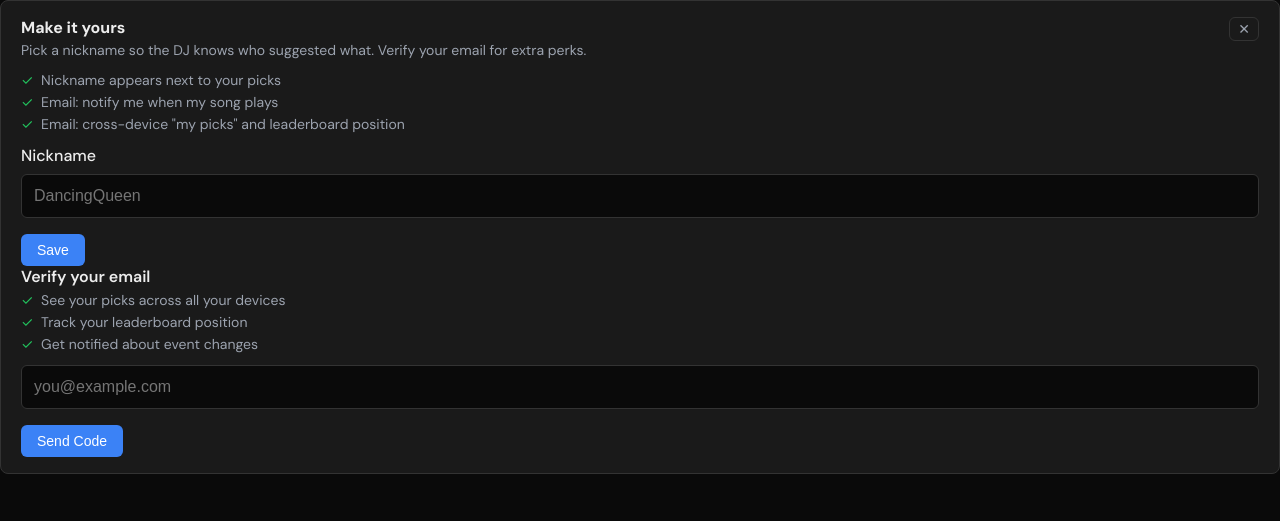
Test case: FeatureOptInPanel › requires at least a nickname to save
The width and height of the screenshot is (1280, 521).
Step 1. Click the button "Save" → x=53, y=250, box x1=21 y1=234 x2=85 y2=266
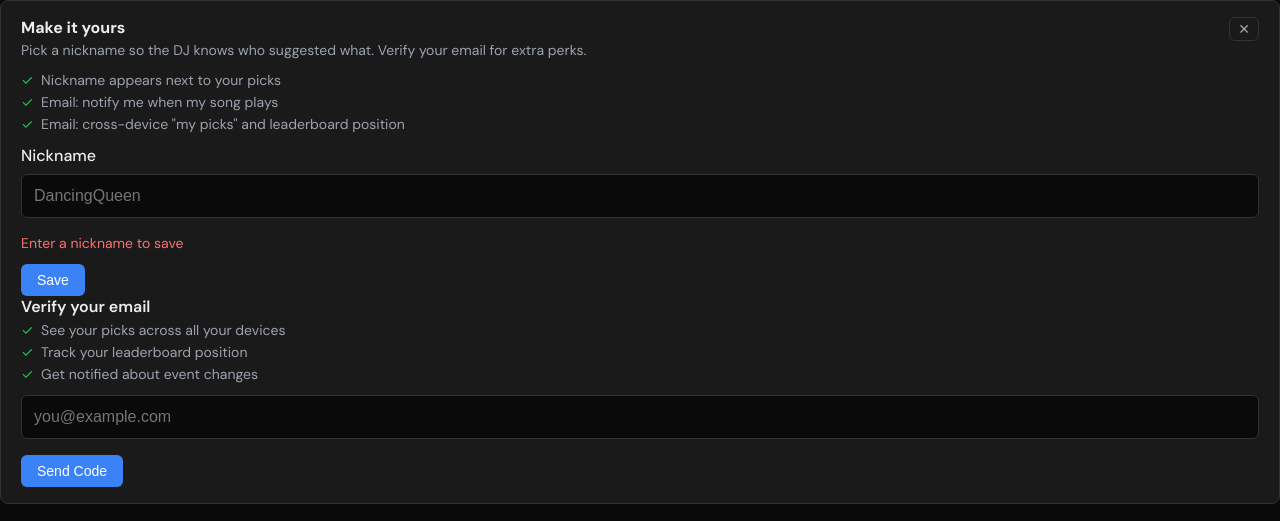
Expected: the text "Enter a nickname to save" is shown, x1=21 y1=234 x2=183 y2=252
